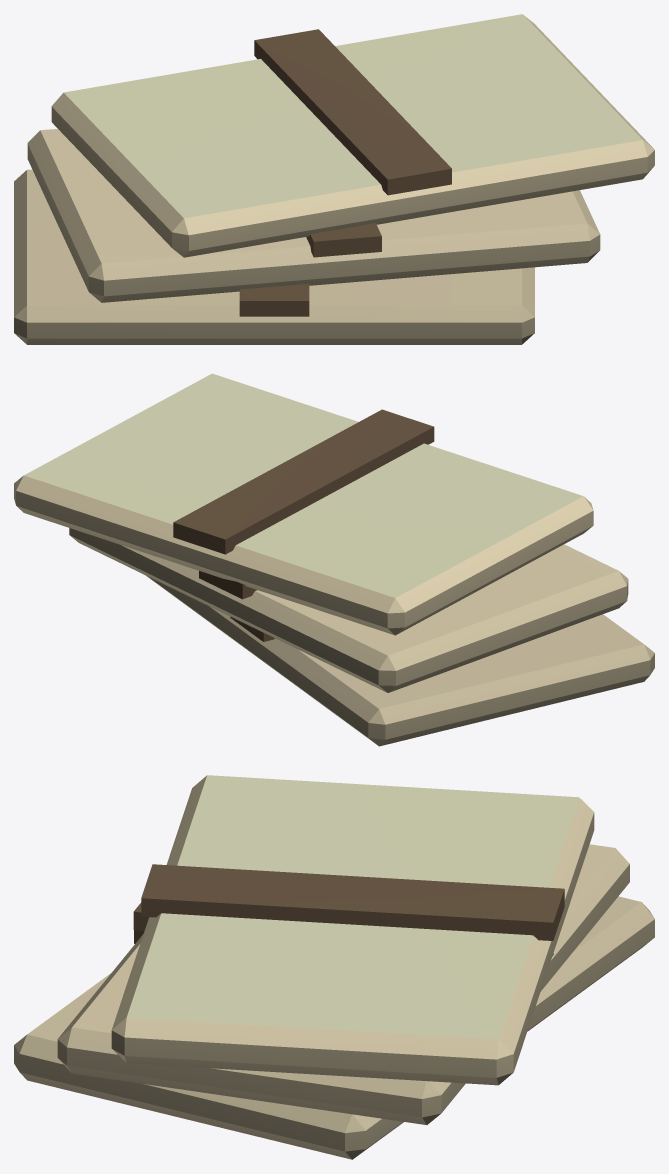
Rendered from ph_item_dropsy_powder.glb.
The picture shows the model from 3 angles, top to bottom: view 1: azimuth 30°, elevation 25°; view 2: azimuth 150°, elevation 25°; view 3: azimuth 270°, elevation 25°; orthographic projection. The views are drawn at different scales.
Parts seen in each view (by area): view 1: ph_item_dropsy_powder; view 2: ph_item_dropsy_powder; view 3: ph_item_dropsy_powder.
Part boxes in pixels (x1,y1,x2,y2): ph_item_dropsy_powder: [14, 14, 654, 344]; ph_item_dropsy_powder: [14, 373, 654, 746]; ph_item_dropsy_powder: [14, 775, 654, 1159].
Bounding box in the file's own units: 0.1581 × 0.037 × 0.1263.
